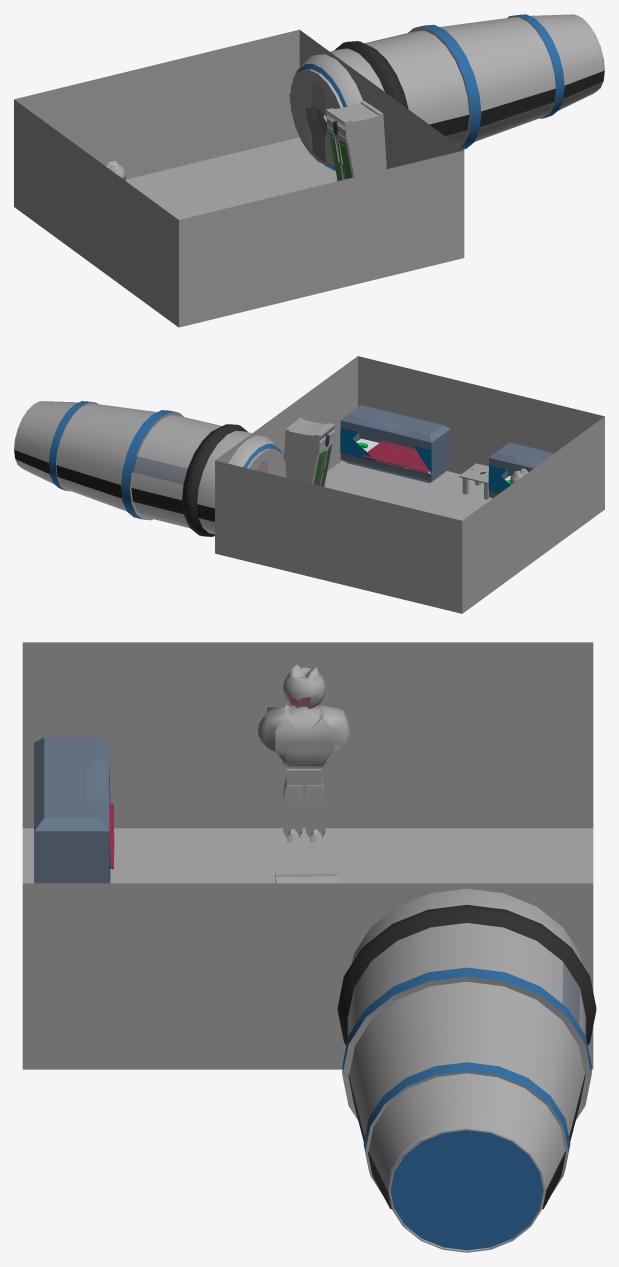
The model's file is Barracks.fbx.
3 renders of one model, top to bottom at view 1: azimuth 30°, elevation 25°; view 2: azimuth 150°, elevation 25°; view 3: azimuth 270°, elevation 25°, orthographic. The views are drawn at different scales.
Parts seen in each view (by area): view 1: room, pasted__pCylinder1, pasted__pCube1; view 2: room, pasted__pCylinder1, pasted__pCube1 (×4), pasted__pPlane1; view 3: room, pasted__pCylinder1, pasted__pCube1 (×3), pasted__pSphere1, pasted__pCube4, pasted__pCube3.
Boxes of the visible parts, x1,y1,x2,y2 form: room: (14, 29, 464, 327); pasted__pCylinder1: (289, 14, 604, 171); pasted__pCube1: (325, 101, 386, 181); room: (215, 356, 604, 613); pasted__pCylinder1: (14, 401, 286, 536); pasted__pCube1 (×4): (284, 405, 553, 498); pasted__pPlane1: (362, 440, 428, 472); room: (22, 642, 593, 1069); pasted__pCylinder1: (337, 888, 596, 1252); pasted__pCube1 (×3): (34, 704, 350, 883); pasted__pSphere1: (283, 663, 325, 709); pasted__pCube4: (306, 776, 325, 842); pasted__pCube3: (283, 777, 302, 842).
Bounding box in the file's own units: 28.38 × 6.04 × 15.32.
